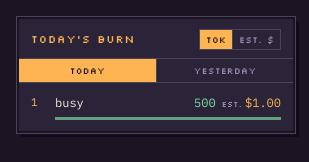
Test: Leaderboard › says a quiet yesterday was a quiet yesterday, not a quiet today
The image size is (309, 162).
Click the button "Yesterday" at (224, 70), box [156,59,293,82]
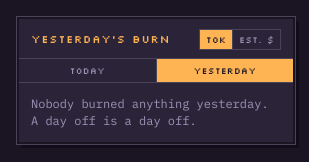
Result: the text "Nobody burned anything yesterday. A day off is a day off." is shown at [31,96,269,128]
